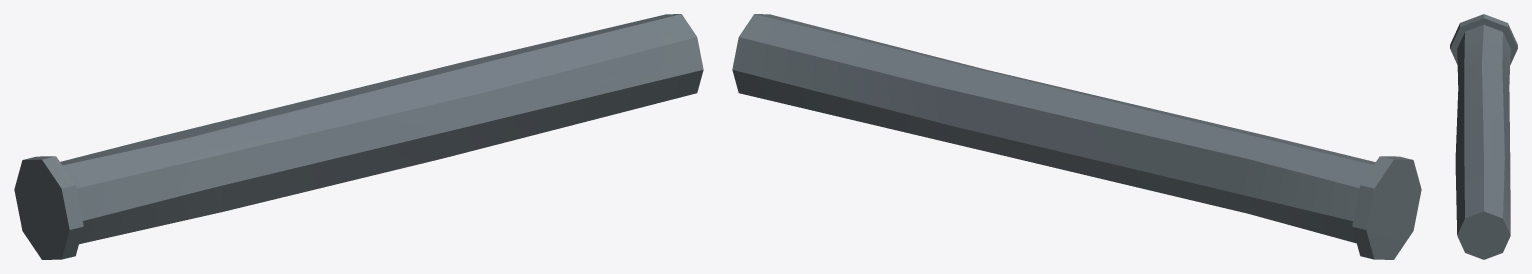
Rendered from samurai_SM_Gen_Bld_Pipe_Straight_02.gltf.
3 views of the same model, side by side, from view 1: azimuth 30°, elevation 25°; view 2: azimuth 150°, elevation 25°; view 3: azimuth 270°, elevation 25° (orthographic). The views are drawn at different scales.
Parts seen in each view (by area): view 1: SM_Gen_Bld_Pipe_Straight_02; view 2: SM_Gen_Bld_Pipe_Straight_02; view 3: SM_Gen_Bld_Pipe_Straight_02.
Boxes of the visible parts, box(x1,y1,x2,y2) form: SM_Gen_Bld_Pipe_Straight_02: box(14, 14, 703, 259); SM_Gen_Bld_Pipe_Straight_02: box(732, 14, 1421, 259); SM_Gen_Bld_Pipe_Straight_02: box(1450, 14, 1517, 259).
Size of the model in its own units: 2.53 by 0.379 by 0.379.
1 material, 1 textured.
